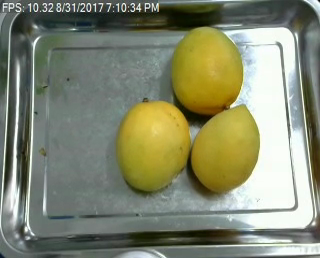Mango: (111, 97, 192, 193), (167, 22, 245, 114), (188, 102, 259, 197)
